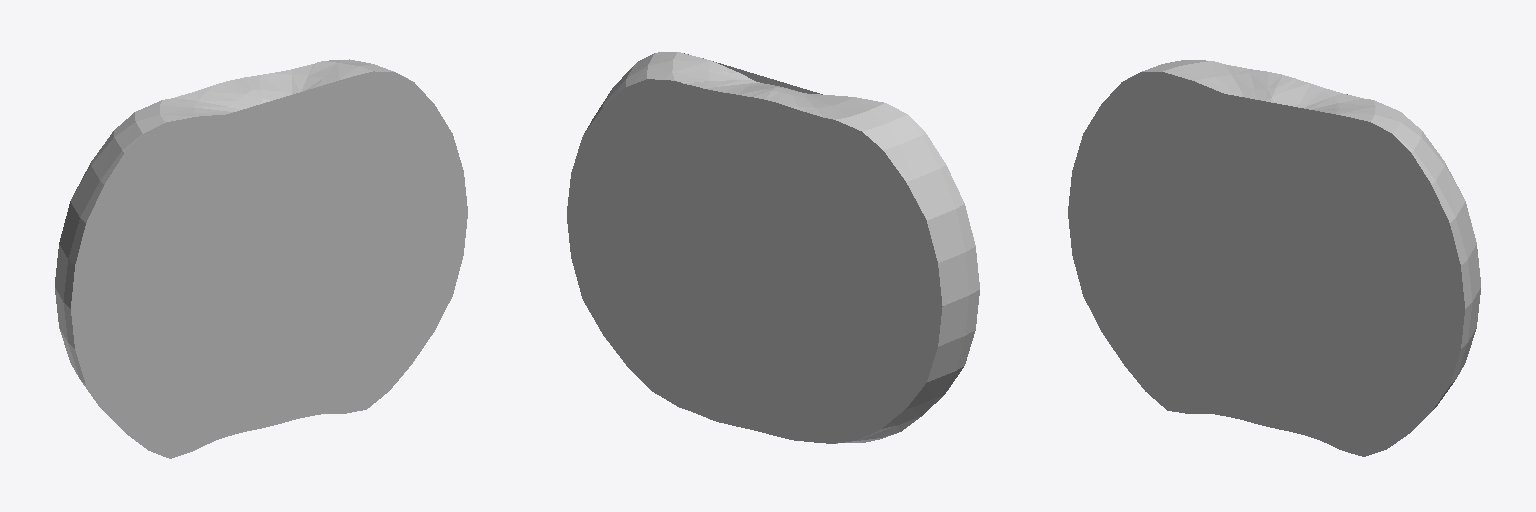
Rendered from apple_slice_04.obj.
The picture shows the model from 3 angles: view 1: azimuth 30°, elevation 25°; view 2: azimuth 150°, elevation 25°; view 3: azimuth 330°, elevation 25°; orthographic projection.
Visible parts, largest first — view 1: Apple.Slices.001_Sphere.002; view 2: Apple.Slices.001_Sphere.002; view 3: Apple.Slices.001_Sphere.002.
Boxes of the visible parts, x1=… form: Apple.Slices.001_Sphere.002: x1=55, y1=59, x2=467, y2=458; Apple.Slices.001_Sphere.002: x1=567, y1=52, x2=979, y2=443; Apple.Slices.001_Sphere.002: x1=1068, y1=60, x2=1480, y2=456.
Bounding box in the file's own units: 1.89 × 1.53 × 0.2212.